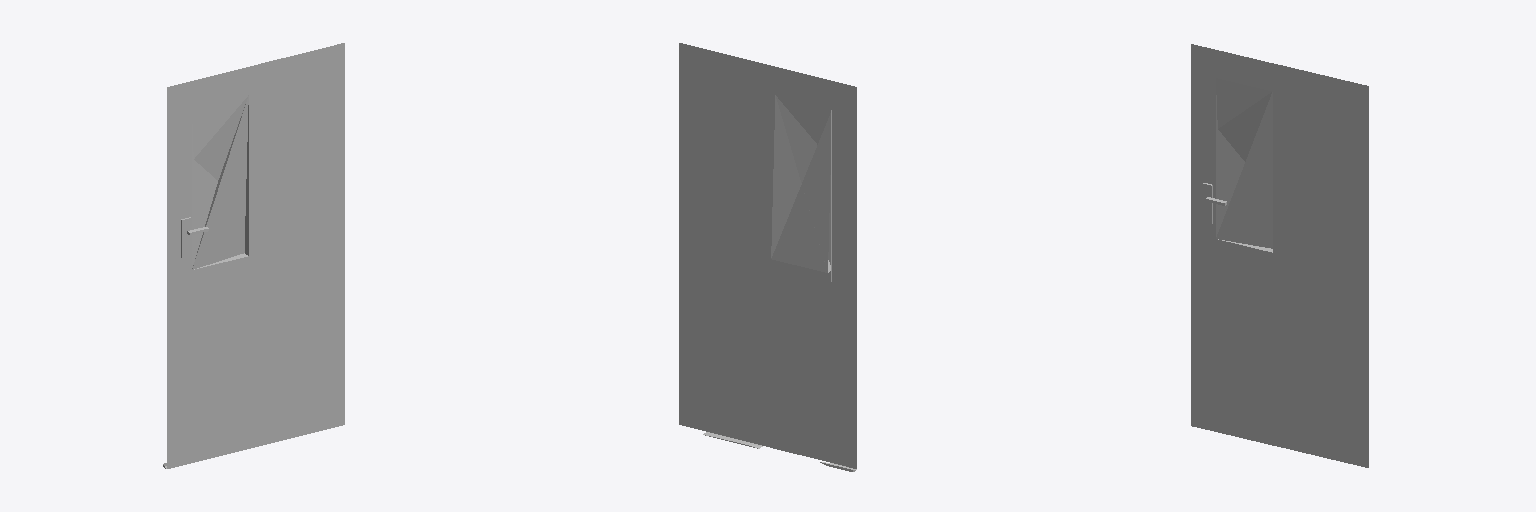
The model's file is door.obj.
3 views of the same model, side by side, from view 1: azimuth 30°, elevation 25°; view 2: azimuth 150°, elevation 25°; view 3: azimuth 330°, elevation 25° (orthographic).
Bounding box in the file's own units: 0.9773 × 2.01 × 0.0791.